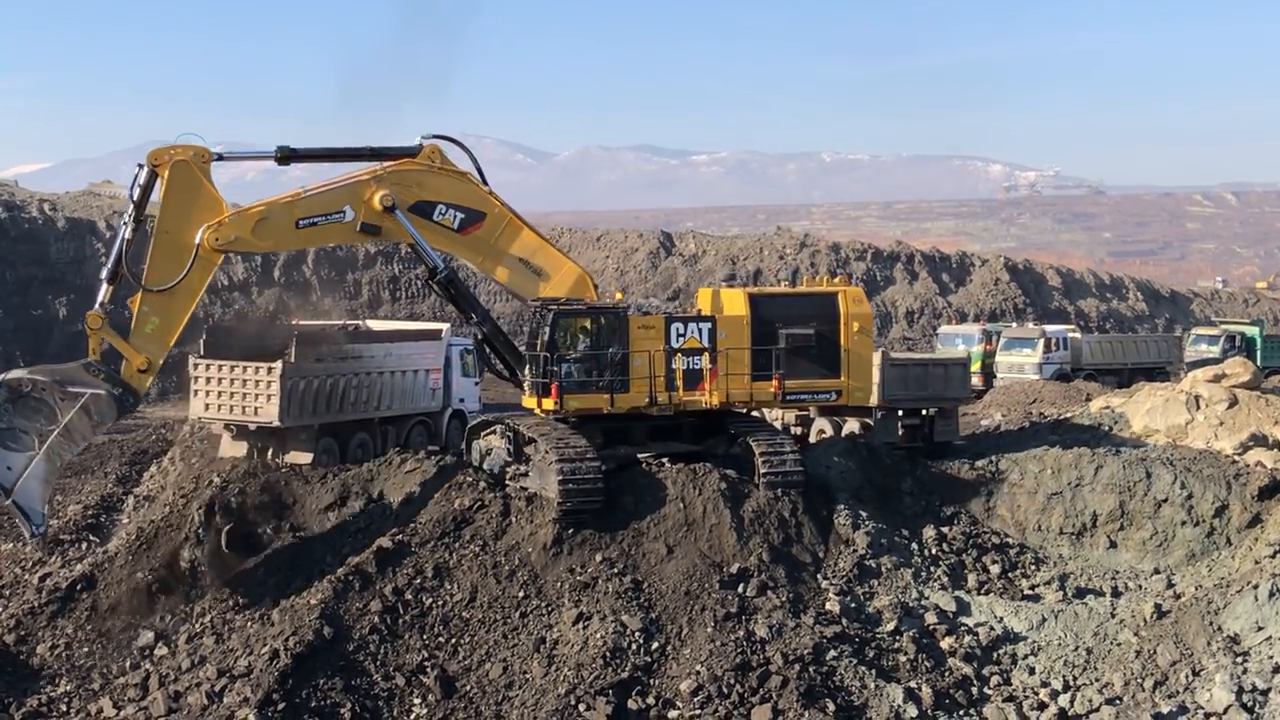empty: (4, 357, 155, 544)
